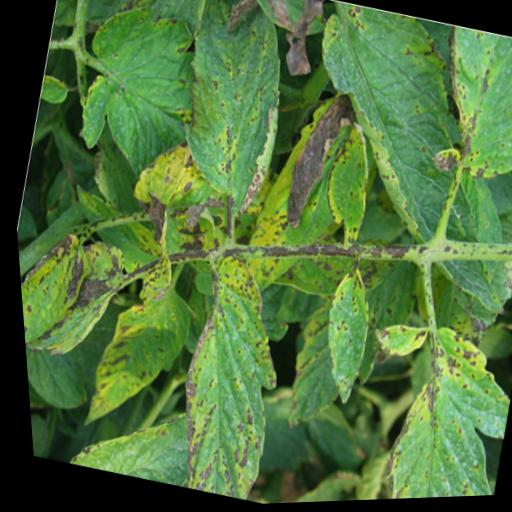Bacterial Spot: (263, 0, 512, 317), (135, 244, 324, 503), (142, 0, 317, 237), (56, 0, 245, 190), (352, 304, 512, 502), (60, 264, 199, 452), (409, 24, 512, 200), (293, 261, 387, 413), (12, 210, 98, 371), (302, 123, 385, 252), (358, 316, 429, 373)
